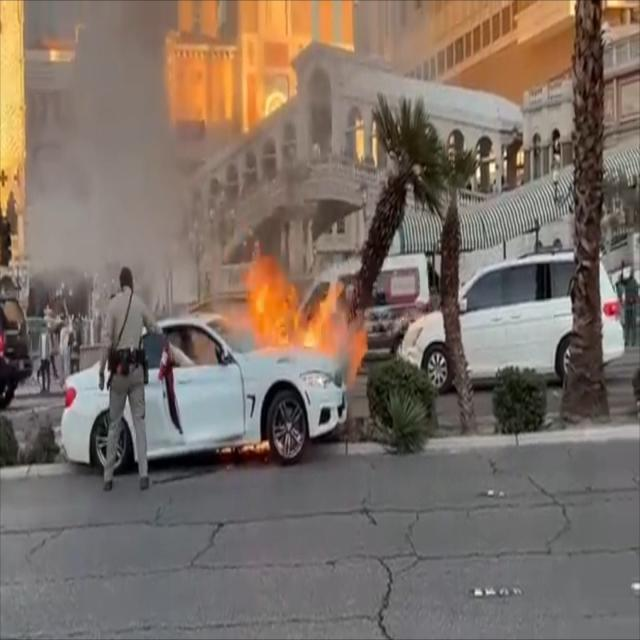fire: (246, 239, 370, 381)
